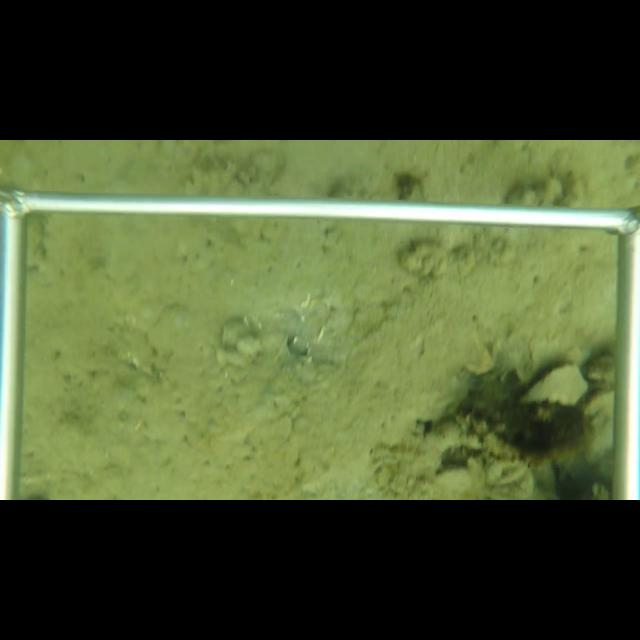Oyster-Closed: (516, 360, 593, 405)
